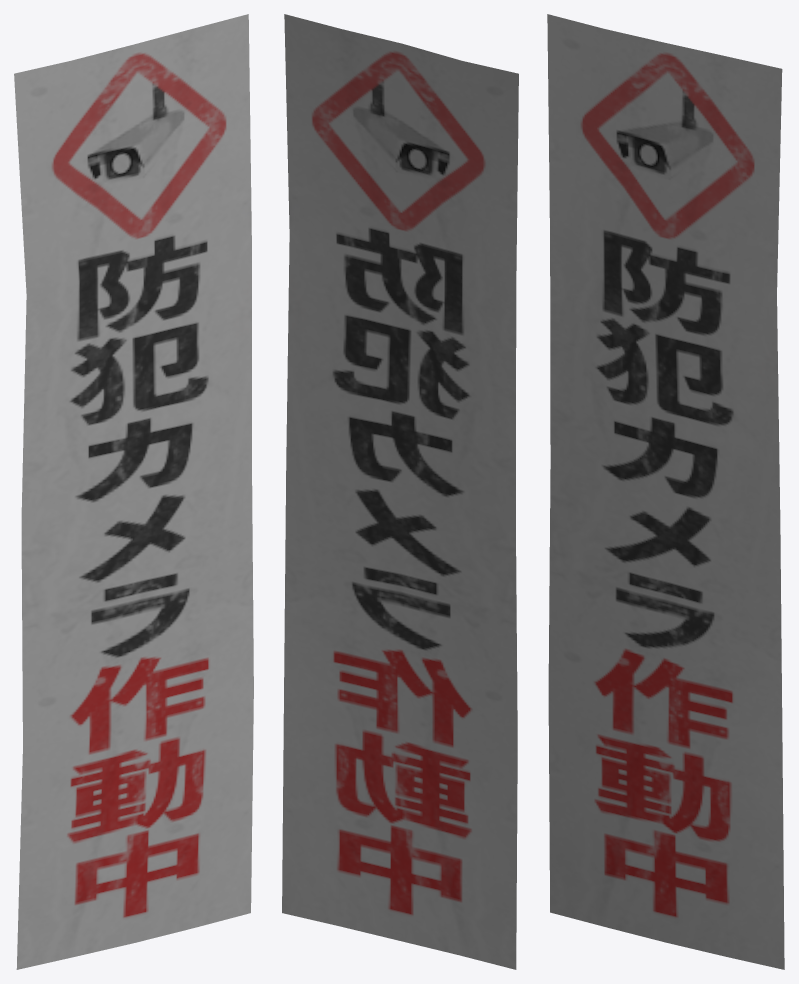
File: posterE.fbx
3 views of the same model, side by side, from view 1: azimuth 30°, elevation 25°; view 2: azimuth 150°, elevation 25°; view 3: azimuth 330°, elevation 25° (orthographic).
Visible parts, largest first — view 1: posterE; view 2: posterE; view 3: posterE.
Part boxes in pixels (x1,y1,x2,y2): posterE: (14,14,253,969); posterE: (282,14,518,969); posterE: (547,14,784,969).
Bounding box in the file's own units: 11.1 × 40.2 × 0.4843.
1 material, 1 textured.
